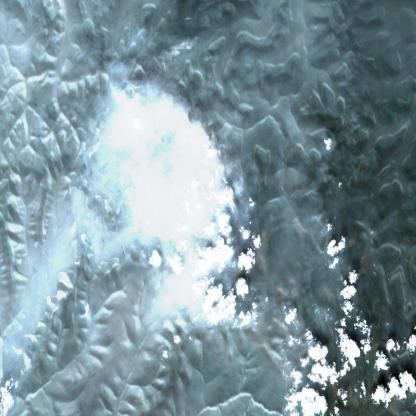fire: (176, 119, 243, 192)
